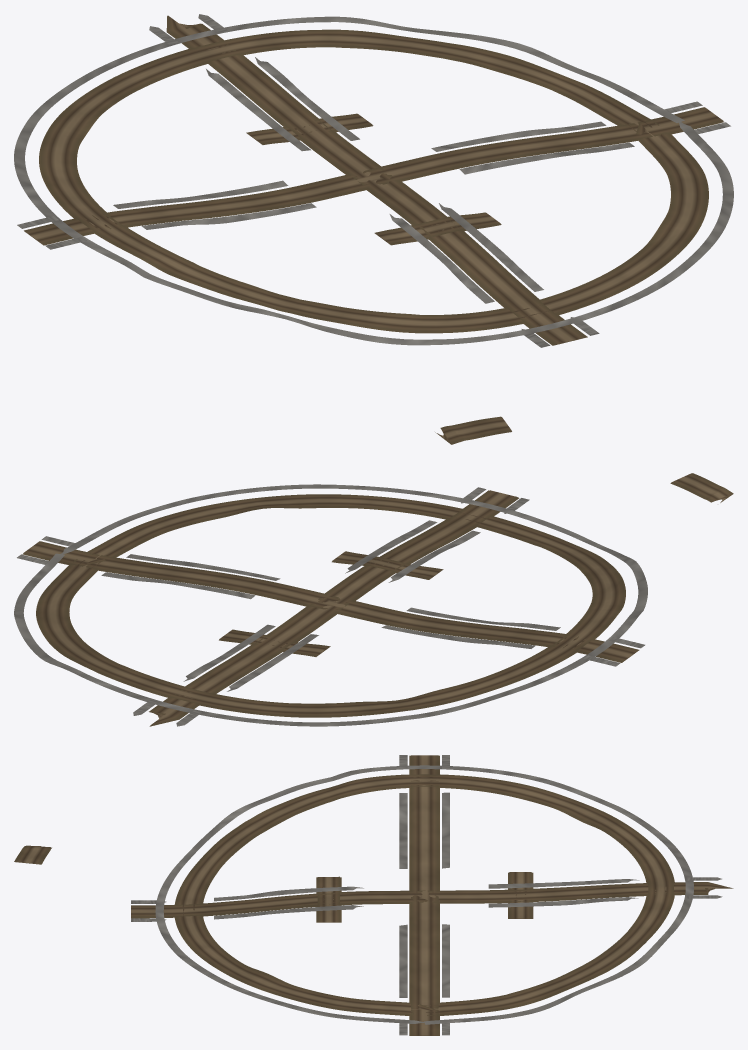
Rendered from Roads_P1.fbx.
3 renders of one model, top to bottom at view 1: azimuth 30°, elevation 25°; view 2: azimuth 150°, elevation 25°; view 3: azimuth 270°, elevation 25°, orthographic. The views are drawn at different scales.
Visible parts, largest first — view 1: Road.Loop, Road.Y, Walk.Ring, Road.X, Road.Loop.shoulder, Road.X.shoulder, Road.Y.shoulder, Street.TownS, Road.Port, Walk.YSI, Walk.XWI.001, Walk.YSI.001 (+6 smaller); view 2: Road.Loop, Road.X, Walk.Ring, Road.Y, Road.Loop.shoulder, Road.X.shoulder, Road.Y.shoulder, Street.TownS, Road.Port, Street.TownN, Walk.XEI, Walk.XWI (+6 smaller); view 3: Road.Loop, Road.X, Walk.Ring, Road.Y, Road.Loop.shoulder, Road.Y.shoulder, Road.X.shoulder, Street.TownS, Street.TownN, Walk.XWI.001, Walk.YNI, Walk.YSI.001 (+5 smaller).
Part boxes in pixels (x1,y1,x2,y2): Road.Loop: [41, 30, 706, 331]; Road.Y: [168, 15, 585, 344]; Walk.Ring: [14, 16, 733, 345]; Road.X: [24, 107, 723, 244]; Road.Loop.shoulder: [39, 29, 708, 333]; Road.X.shoulder: [24, 107, 723, 245]; Road.Y.shoulder: [166, 15, 587, 345]; Street.TownS: [375, 212, 500, 243]; Road.Port: [437, 417, 511, 443]; Walk.YSI: [439, 203, 543, 291]; Walk.XWI.001: [141, 203, 316, 229]; Walk.YSI.001: [389, 214, 494, 303]; Road.Loop: [37, 494, 624, 716]; Road.X: [23, 541, 638, 661]; Walk.Ring: [14, 484, 647, 726]; Road.Y: [150, 490, 517, 725]; Road.Loop.shoulder: [36, 494, 625, 717]; Road.X.shoulder: [22, 541, 639, 662]; Road.Y.shoulder: [149, 490, 519, 726]; Street.TownS: [332, 551, 442, 578]; Road.Port: [671, 473, 732, 501]; Street.TownN: [219, 629, 329, 655]; Walk.XEI: [101, 572, 255, 599]; Walk.XWI: [381, 625, 535, 648]; Road.Loop: [176, 774, 673, 1015]; Road.X: [411, 755, 438, 1035]; Walk.Ring: [155, 765, 693, 1024]; Road.Y: [131, 882, 730, 917]; Road.Loop.shoulder: [174, 774, 674, 1016]; Road.Y.shoulder: [131, 882, 733, 918]; Road.X.shoulder: [409, 755, 439, 1035]; Street.TownS: [317, 876, 339, 922]; Street.TownN: [509, 872, 531, 918]; Walk.XWI.001: [399, 793, 407, 868]; Walk.YNI: [488, 897, 638, 907]; Walk.YSI.001: [214, 886, 363, 901].
Bounding box in the file's own units: 18400 × 1250 × 22537.
